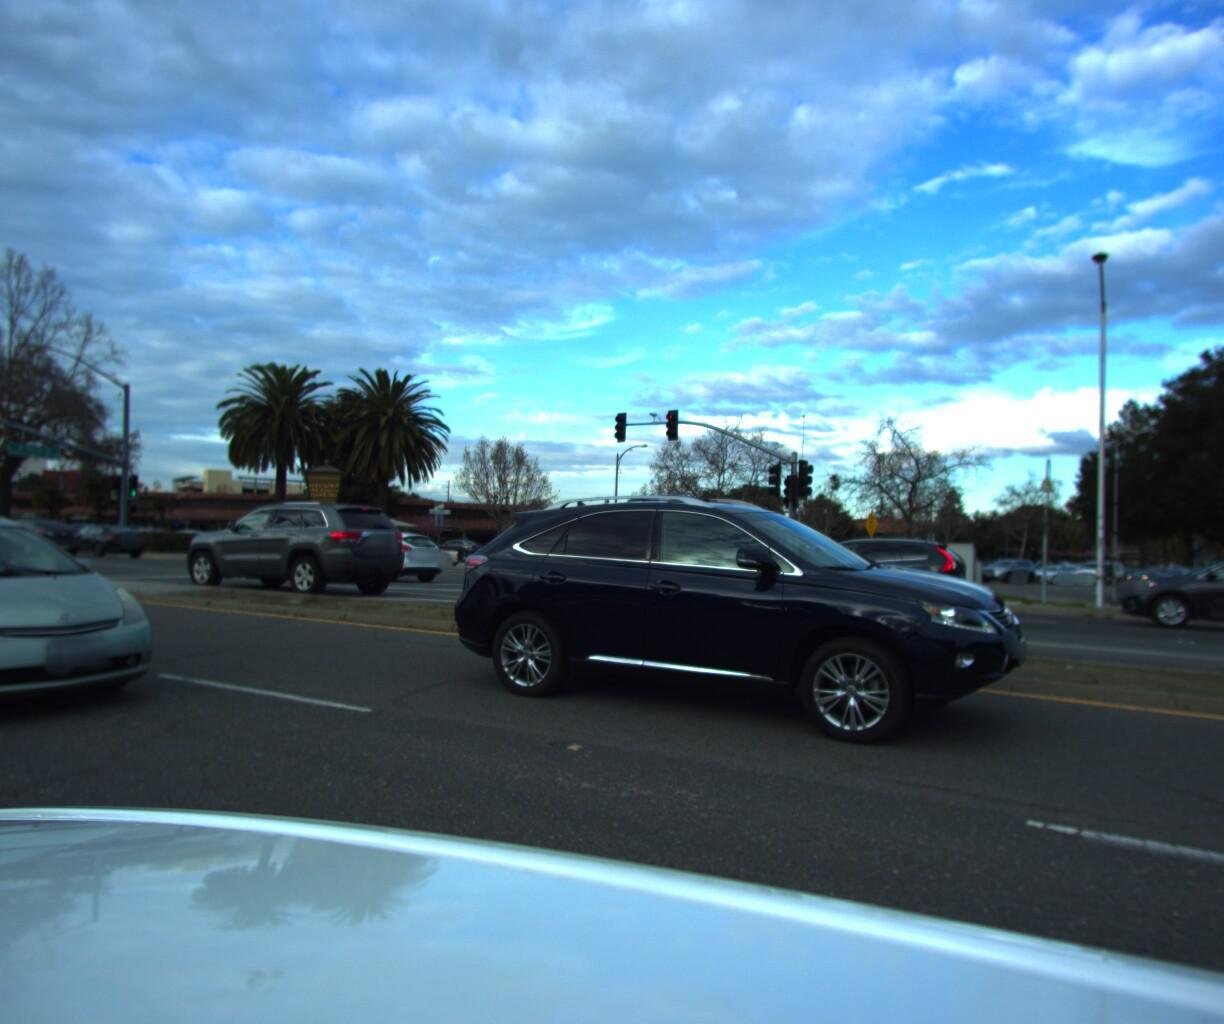car: (437, 484, 1038, 766), (0, 502, 182, 750), (180, 498, 426, 600), (740, 526, 981, 622), (1119, 541, 1224, 641), (310, 523, 457, 584), (346, 530, 458, 568), (53, 515, 156, 550), (0, 514, 86, 555), (148, 523, 222, 550), (972, 550, 1038, 576), (1063, 552, 1123, 577), (1015, 556, 1077, 579), (1117, 558, 1166, 579)
